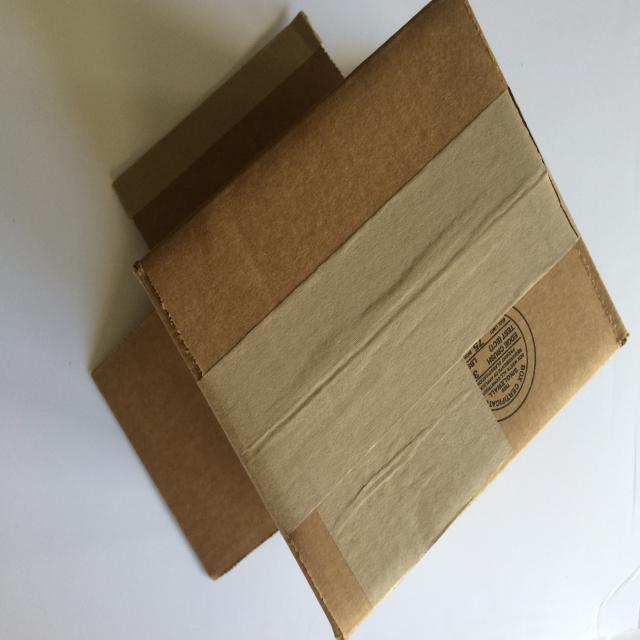cardboard: (108, 0, 629, 638)
